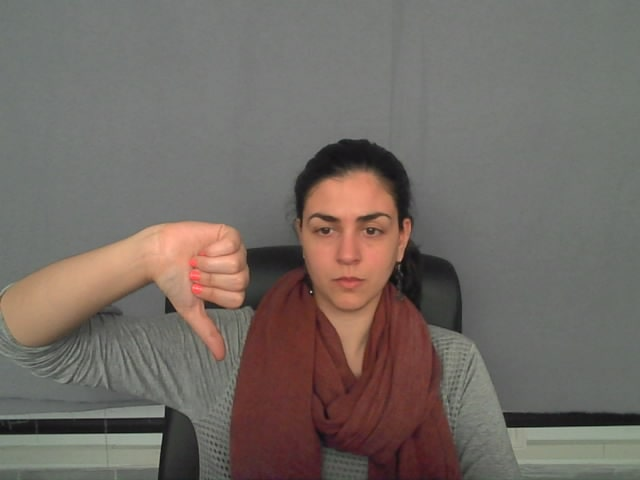down: (124, 201, 268, 373)
